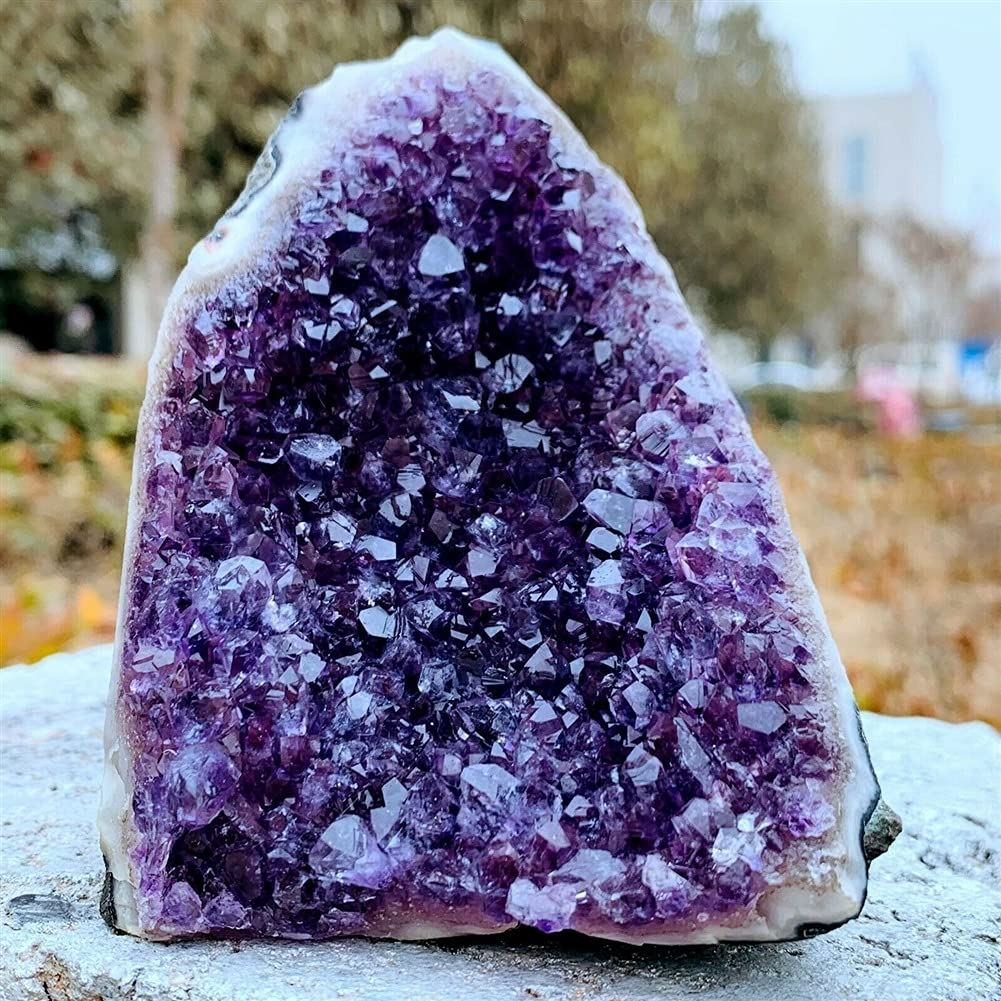Amethyst: (96, 29, 878, 952)
